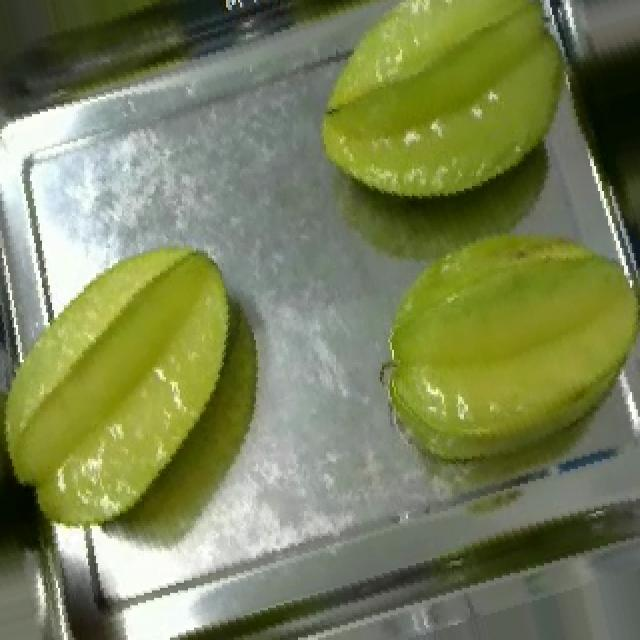fruit: (330, 174, 640, 506), (2, 208, 288, 556), (284, 0, 600, 243), (0, 0, 234, 67)
